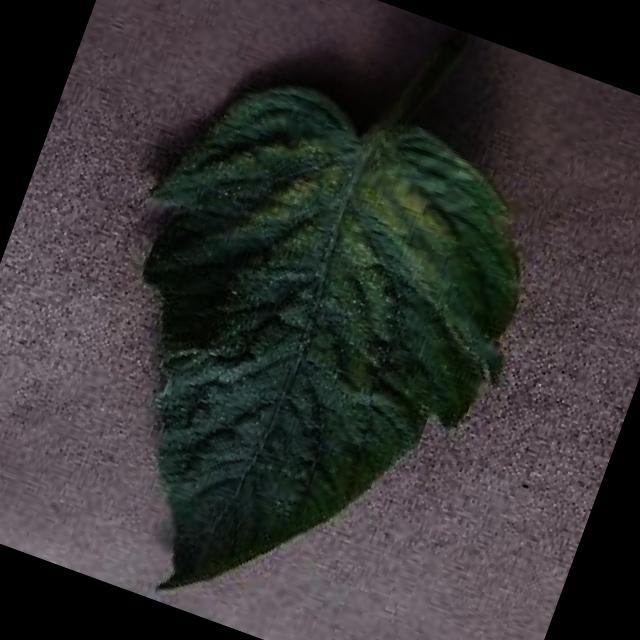Tomato spider mites leaf: (20, 44, 571, 640)
